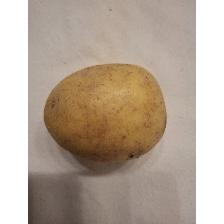Kartoffel: (42, 60, 170, 166)
